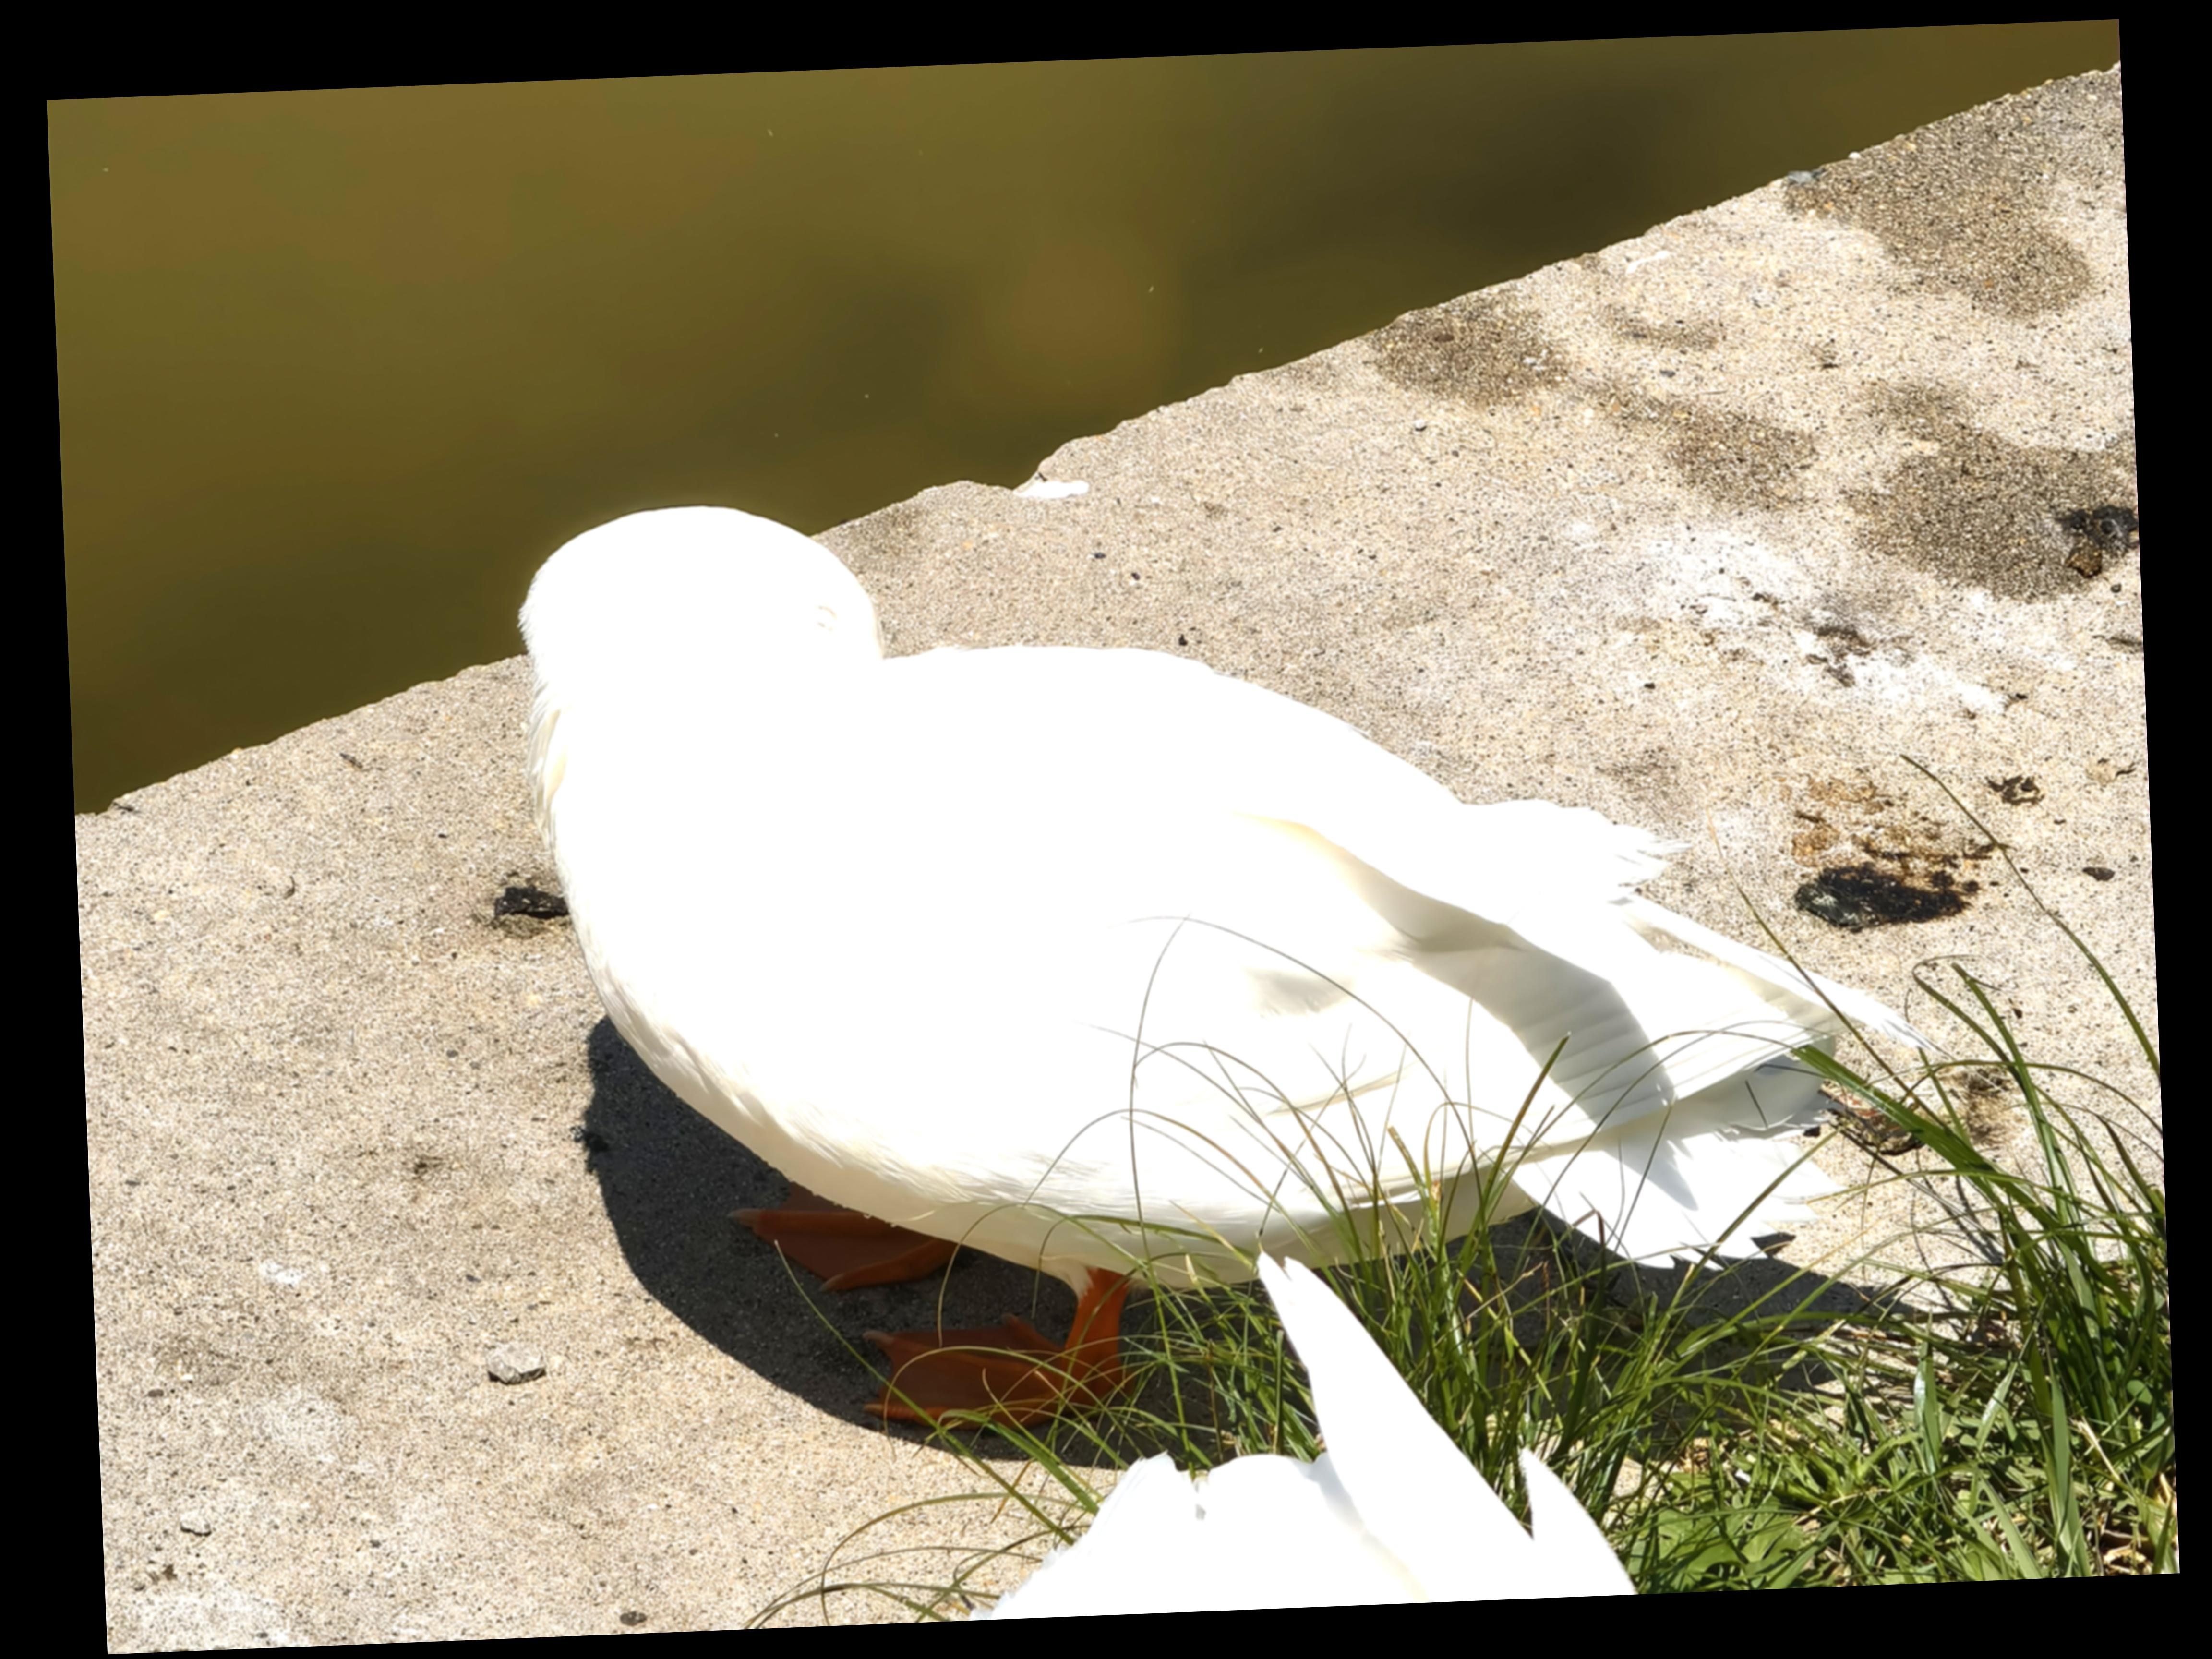duck: (477, 408, 1979, 1366)
